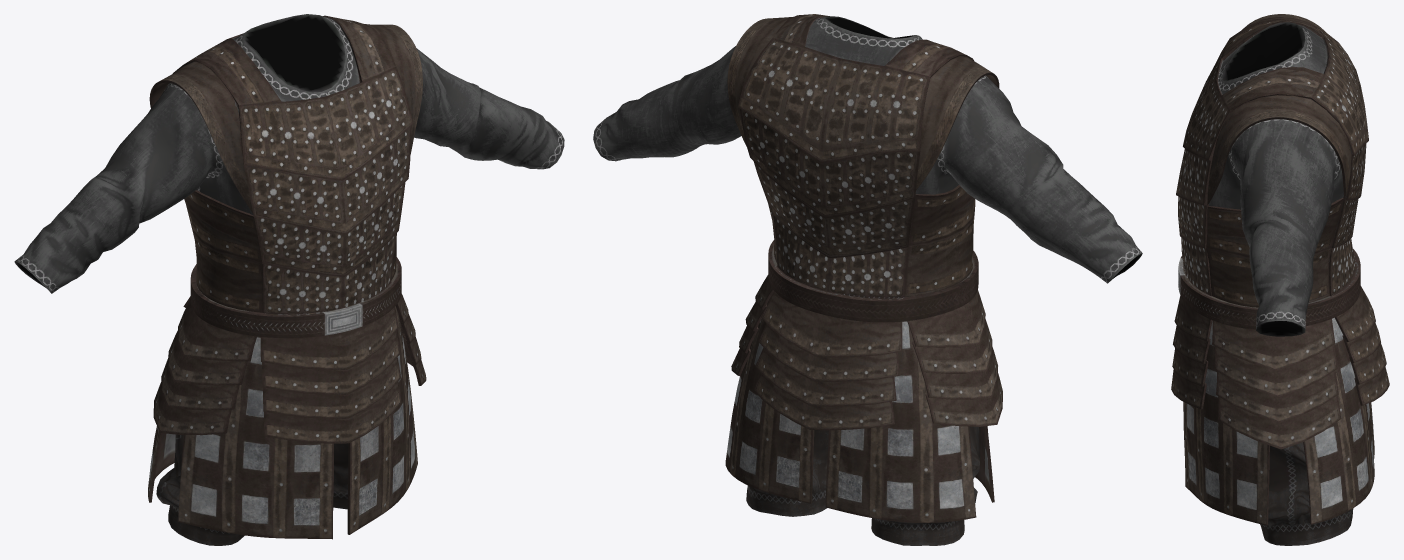
File: sk_dwarf_erebor_chest_leather_med_b.fbx
The picture shows the model from 3 angles, left to right: view 1: azimuth 30°, elevation 25°; view 2: azimuth 150°, elevation 25°; view 3: azimuth 270°, elevation 25°; orthographic projection. The views are drawn at different scales.
Parts seen in each view (by area): view 1: sk_dwarf_erebor_chest_leather_med_b.0, sk_dwarf_erebor_chest_leather_med_b.1; view 2: sk_dwarf_erebor_chest_leather_med_b.0, sk_dwarf_erebor_chest_leather_med_b.1; view 3: sk_dwarf_erebor_chest_leather_med_b.0, sk_dwarf_erebor_chest_leather_med_b.1.
Part boxes in pixels (<box>): sk_dwarf_erebor_chest_leather_med_b.0: <box>14,14,564,539</box>; sk_dwarf_erebor_chest_leather_med_b.1: <box>156,434,348,545</box>; sk_dwarf_erebor_chest_leather_med_b.0: <box>593,14,1142,522</box>; sk_dwarf_erebor_chest_leather_med_b.1: <box>746,426,979,545</box>; sk_dwarf_erebor_chest_leather_med_b.0: <box>1171,14,1389,525</box>; sk_dwarf_erebor_chest_leather_med_b.1: <box>1260,442,1353,545</box>.
Size of the model in its own units: 1.17 by 0.4355 by 1.02.
2 materials, 2 textured.
